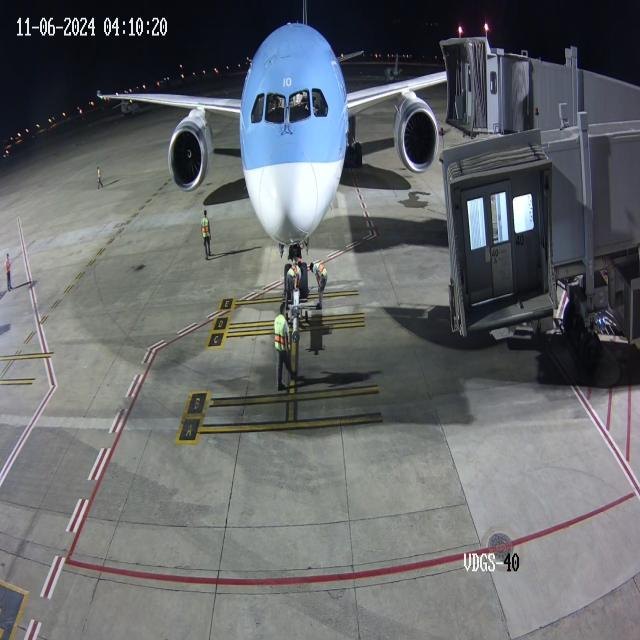bridge: (480, 18, 535, 141)
plane: (99, 0, 441, 301)
window: (247, 86, 332, 126)
